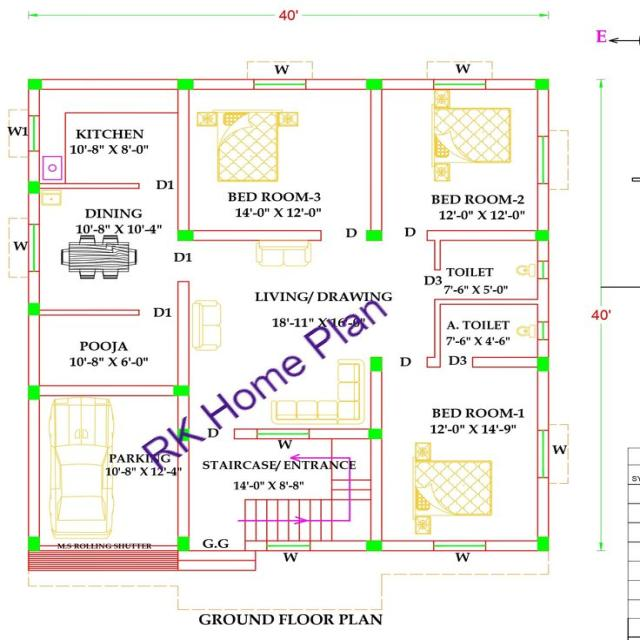column: (360, 75, 388, 94), (172, 226, 200, 243), (23, 300, 44, 322), (172, 75, 197, 93), (23, 533, 44, 554), (533, 534, 554, 554), (171, 382, 193, 401), (25, 383, 44, 405), (367, 353, 386, 374), (532, 76, 554, 94), (530, 227, 553, 243), (363, 228, 386, 244), (534, 353, 550, 375), (174, 535, 192, 553), (25, 76, 44, 93), (25, 179, 42, 198), (362, 538, 385, 552), (366, 426, 386, 442), (175, 426, 192, 442)
